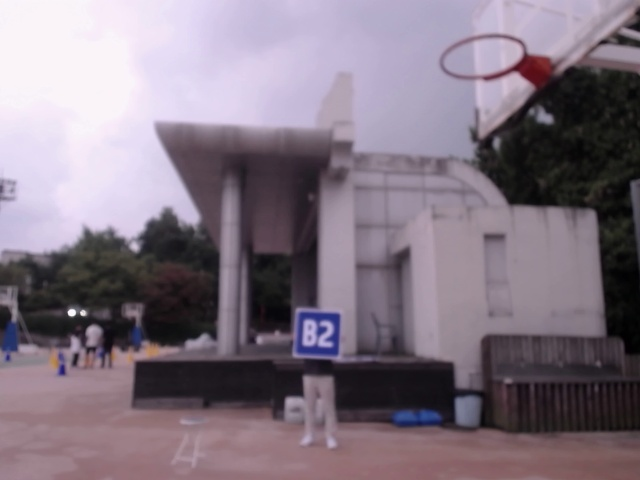delivery_b2: (293, 308, 341, 359)
